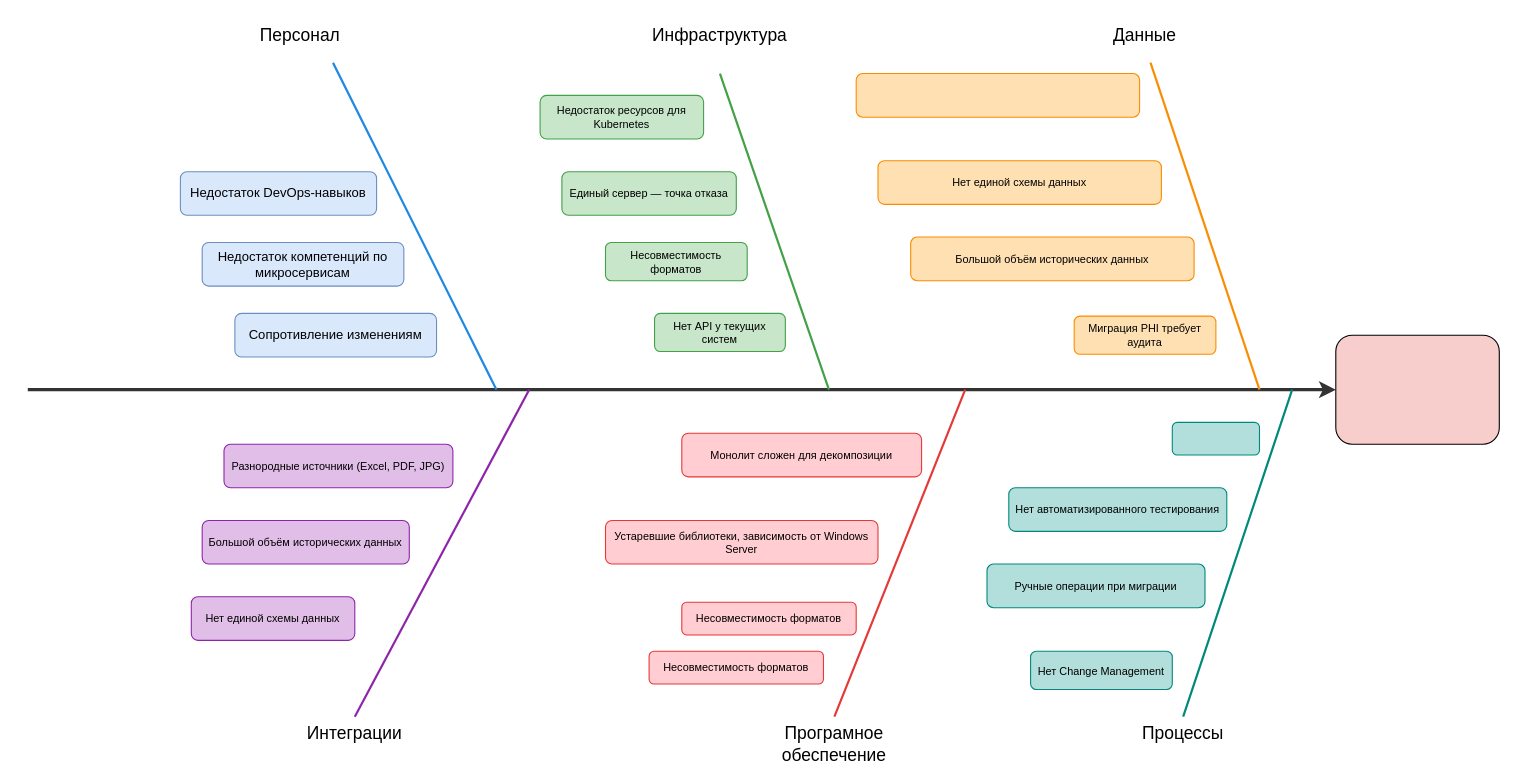
This 1518x783 diagram has some shape labels left out. Each missing label, with the centre of its shape:
1C в файловом режиме — низкая производительность: the point at 997,94
Нет CI/CD: the point at 1215,438
УЗКИЕ МЕСТА ПРИ МИГРАЦИИ: the point at 1417,389
